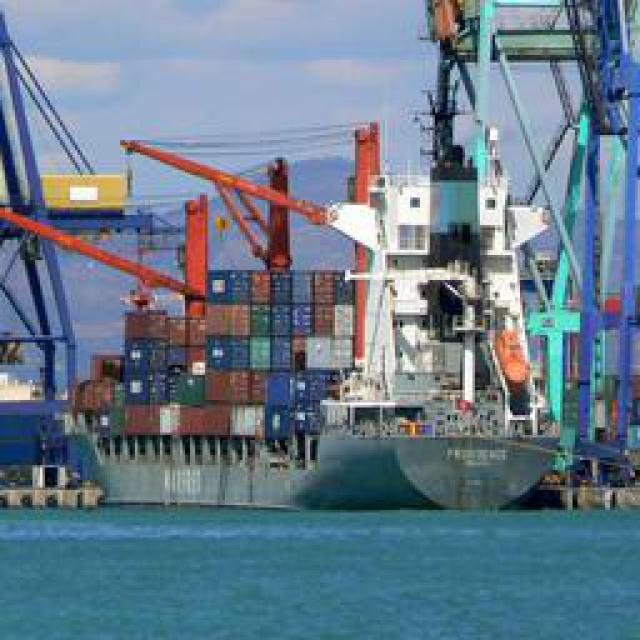Ship: (29, 1, 599, 516)
